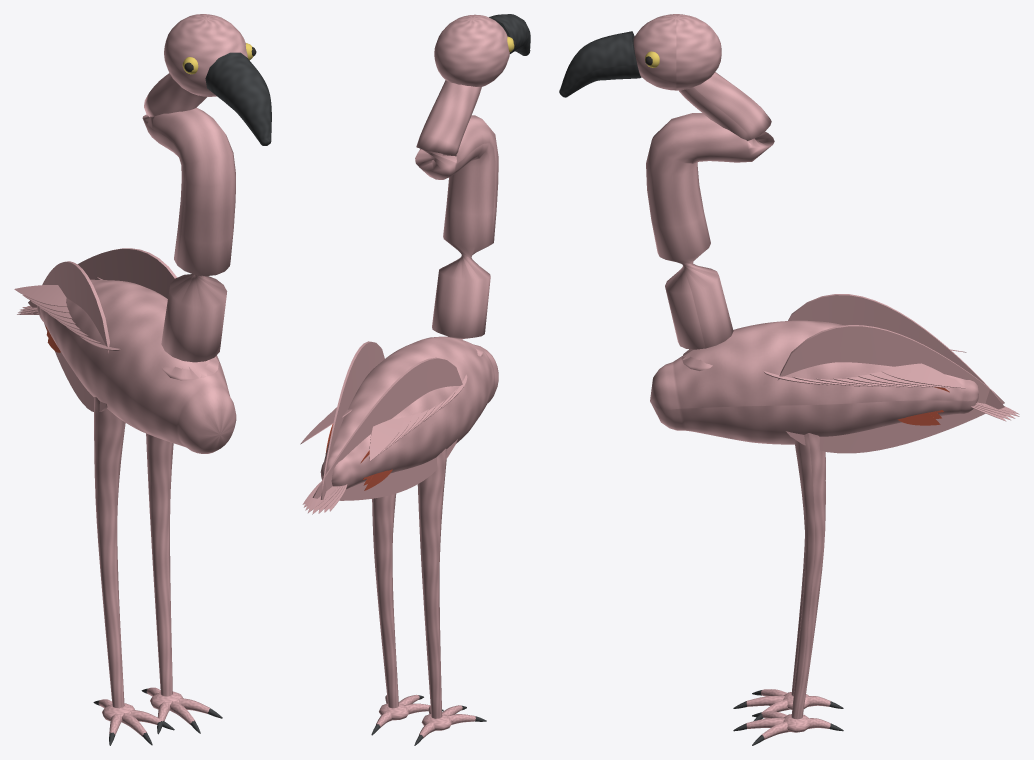
The model's file is birds-and-reptiles-hd-greater-flamingo-81f0f935__28083.glb.
3 renders of one model, left to right at view 1: azimuth 30°, elevation 25°; view 2: azimuth 150°, elevation 25°; view 3: azimuth 270°, elevation 25°, orthographic. The views are drawn at different scales.
Parts seen in each view (by area): view 1: greater-flamingo; view 2: greater-flamingo; view 3: greater-flamingo.
Boxes of the visible parts, bbox=[...] form: greater-flamingo: bbox=[14, 14, 271, 745]; greater-flamingo: bbox=[300, 14, 530, 745]; greater-flamingo: bbox=[559, 14, 1019, 745].
Size of the model in its own units: 0.232 by 1.46 by 0.865.
5 materials, 3 textured.
